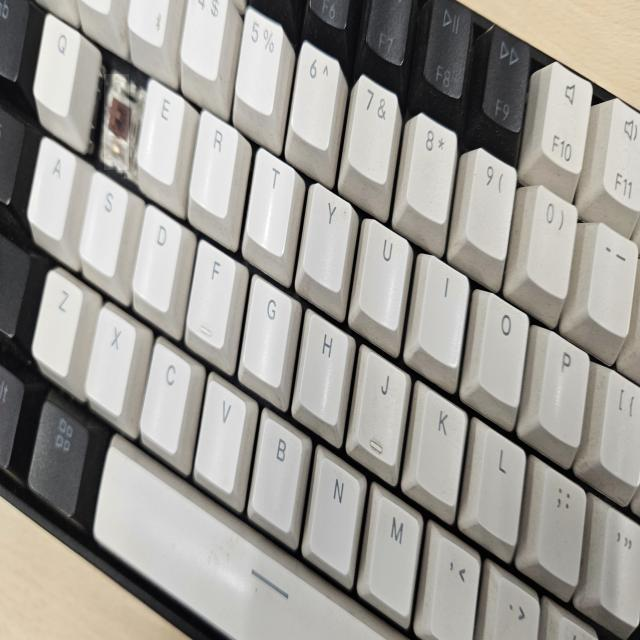C: (104, 74, 129, 170)
